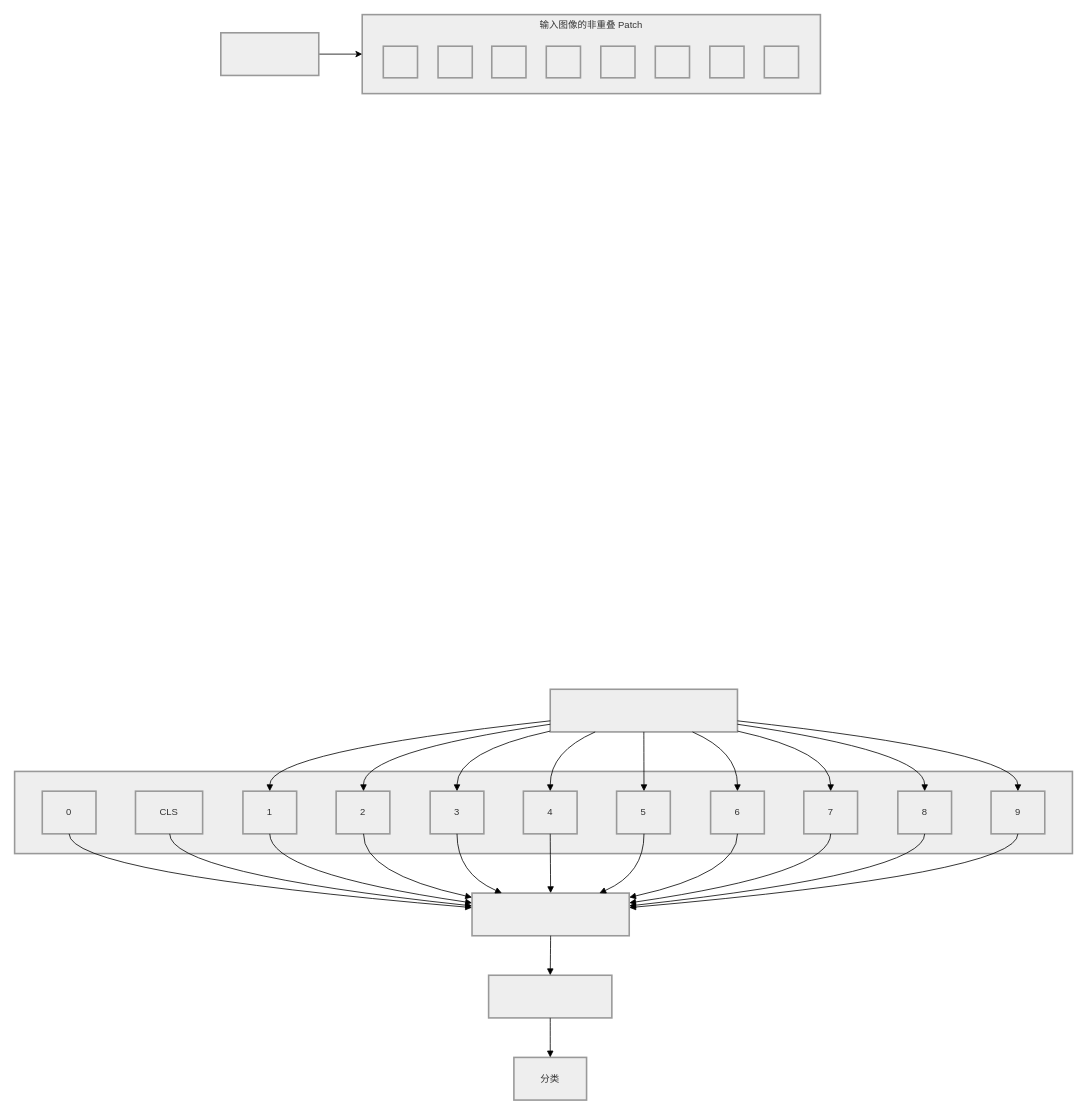
This 1086x1114 diagram has some shape labels left out. Here are the shapes that lost their labels. From the top down, the box of each, then its label:
(220, 32, 319, 76): 输入图像
(549, 688, 738, 732): 展平后 Patch 的线性映射
(13, 770, 1073, 854): Patch + Position Embedding
(471, 892, 630, 936): Transformer 编码器
(487, 974, 612, 1018): 多层感知机头
